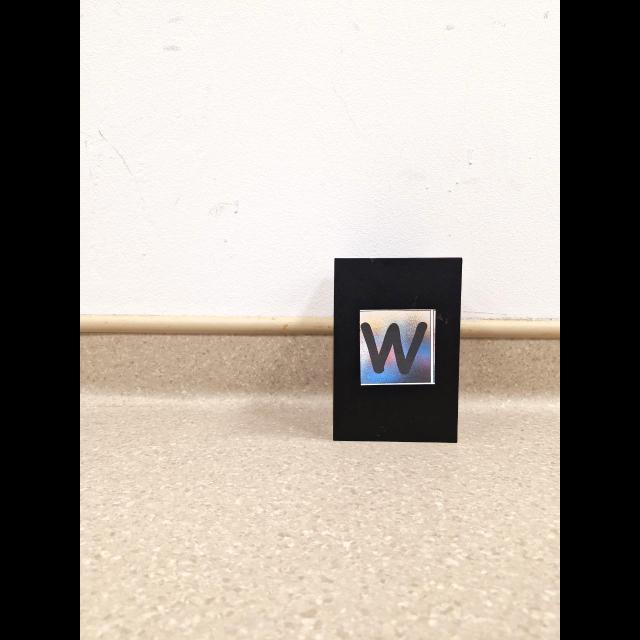W: (359, 322, 427, 376)
